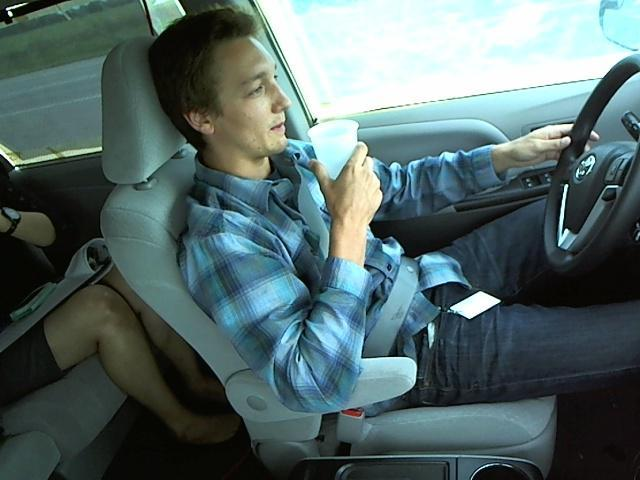Drinking: (180, 30, 384, 225)
